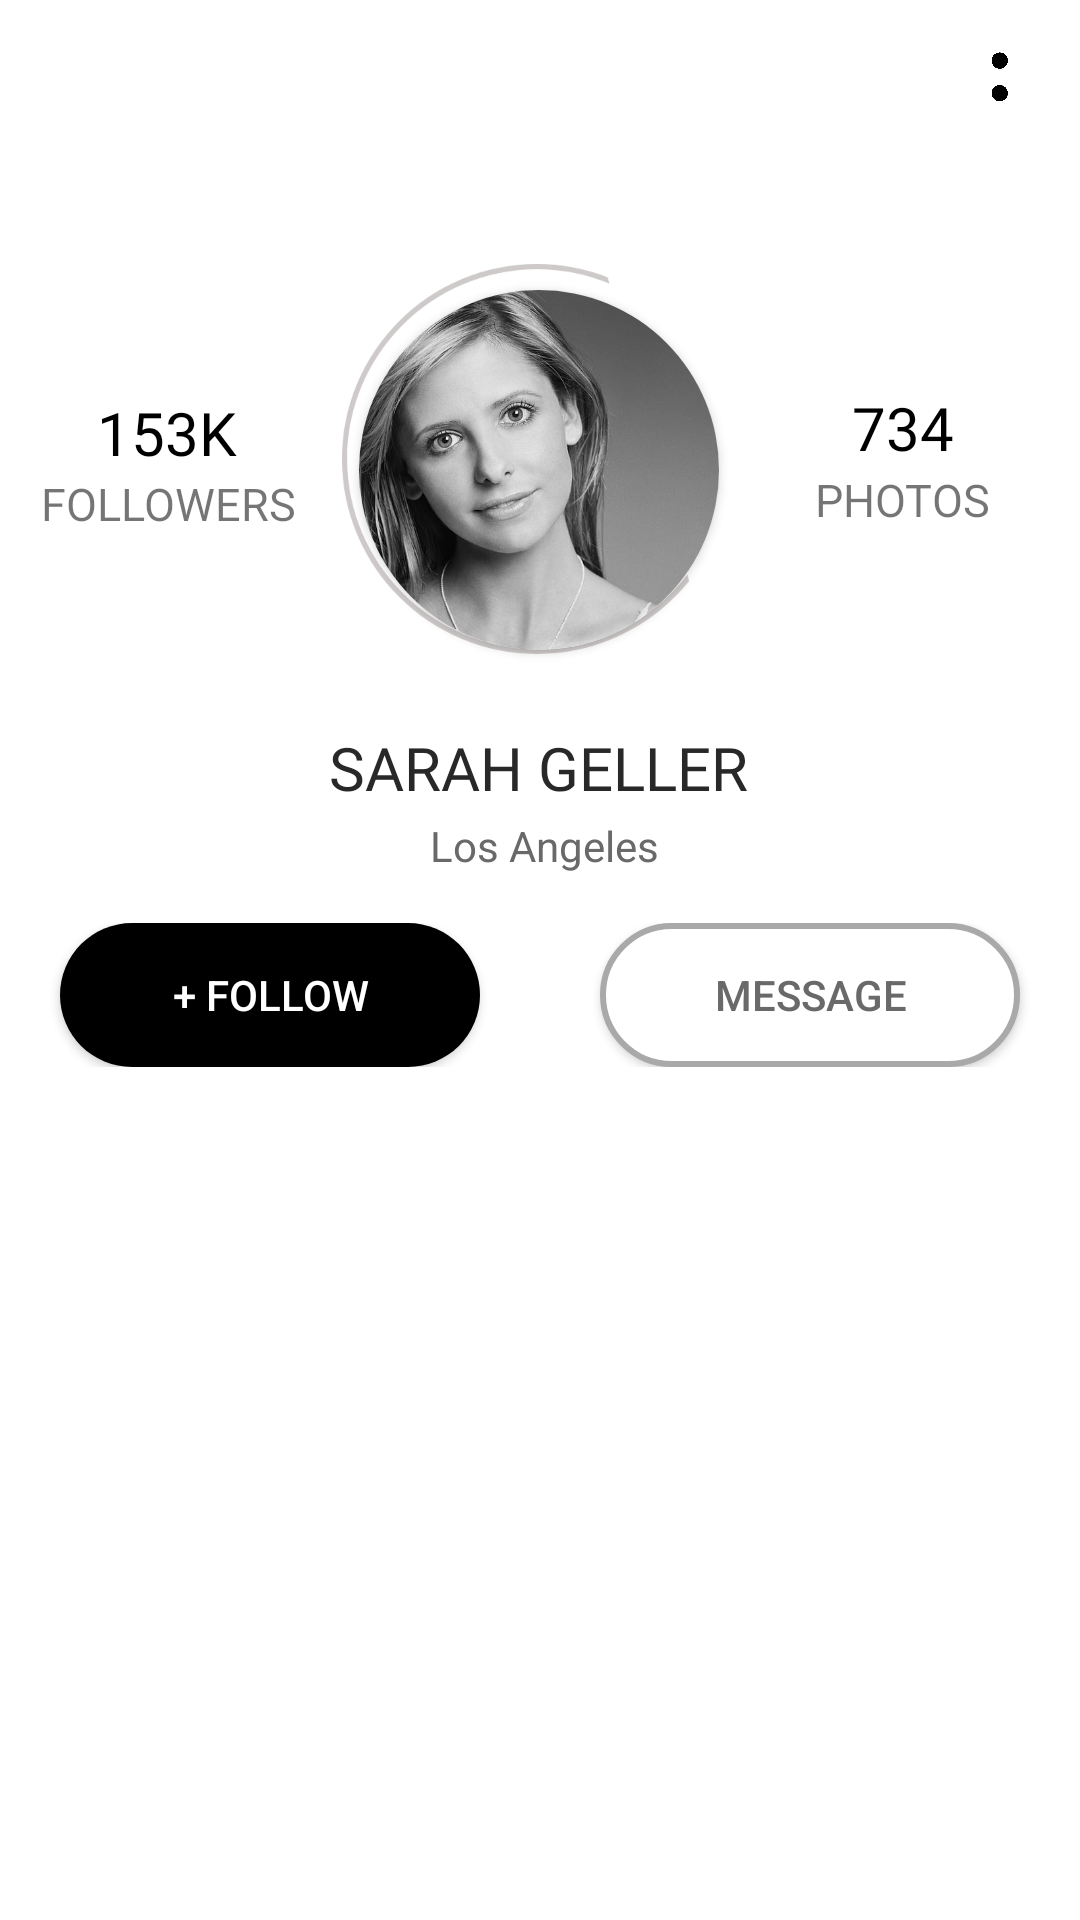

Named icons in this screenshot (1080w x 1920h) and their bounding boxes, (x1, y1, x2, y2):
menu: (992, 52, 1008, 101)
profile pic: (359, 290, 719, 650)
